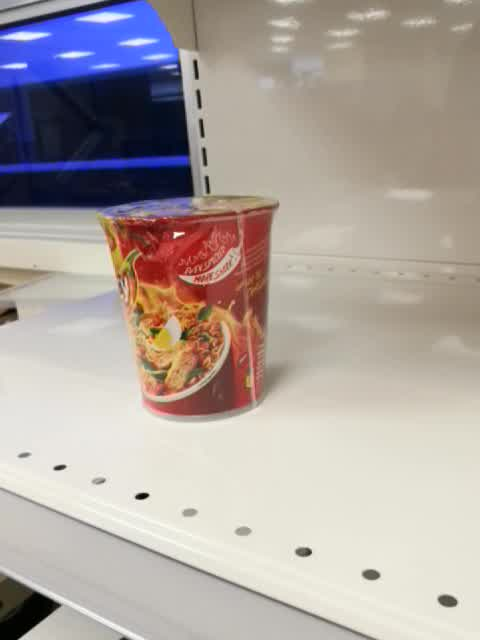maggi: (95, 193, 280, 424)
